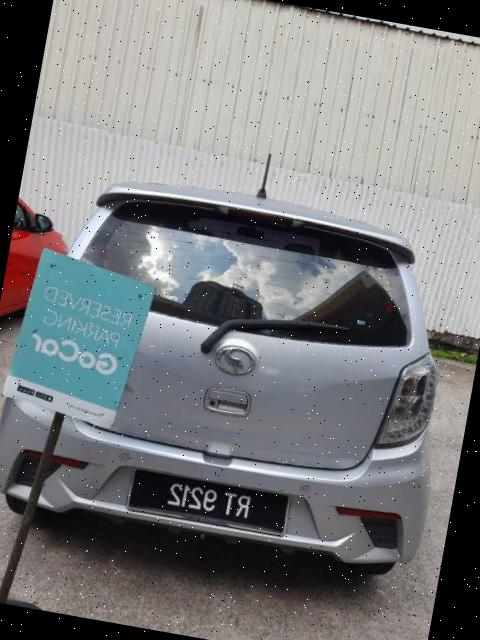License_Plate: (126, 467, 292, 538)
car: (1, 154, 477, 586), (1, 196, 76, 328)
